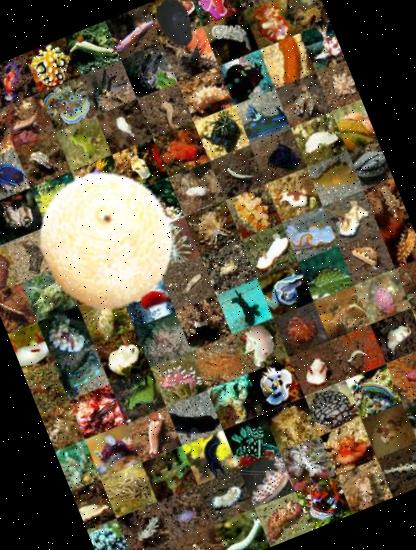Avocado: (141, 0, 209, 56)
Cantaloupe: (14, 147, 198, 331)
